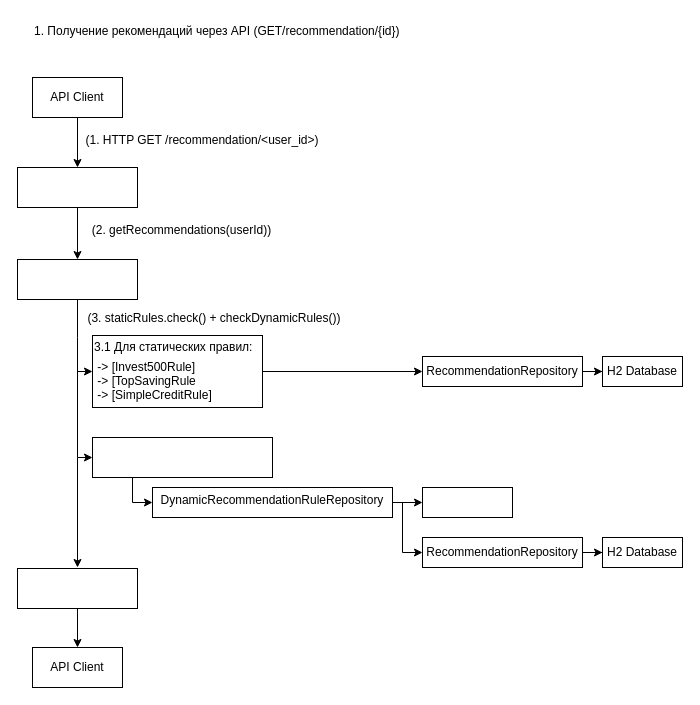
This 700x705 diagram has some shape labels left out. Each missing label, with the centre of its shape:
"3.2 Для динамических правил: DynamicRulesService" belongs at (182,457).
"PostgreSQL" belongs at (467,502).
"Recommendation Controller" belongs at (77,187).
"Recommendation Service" belongs at (77,279).
"формирование ответа" belongs at (77,588).
